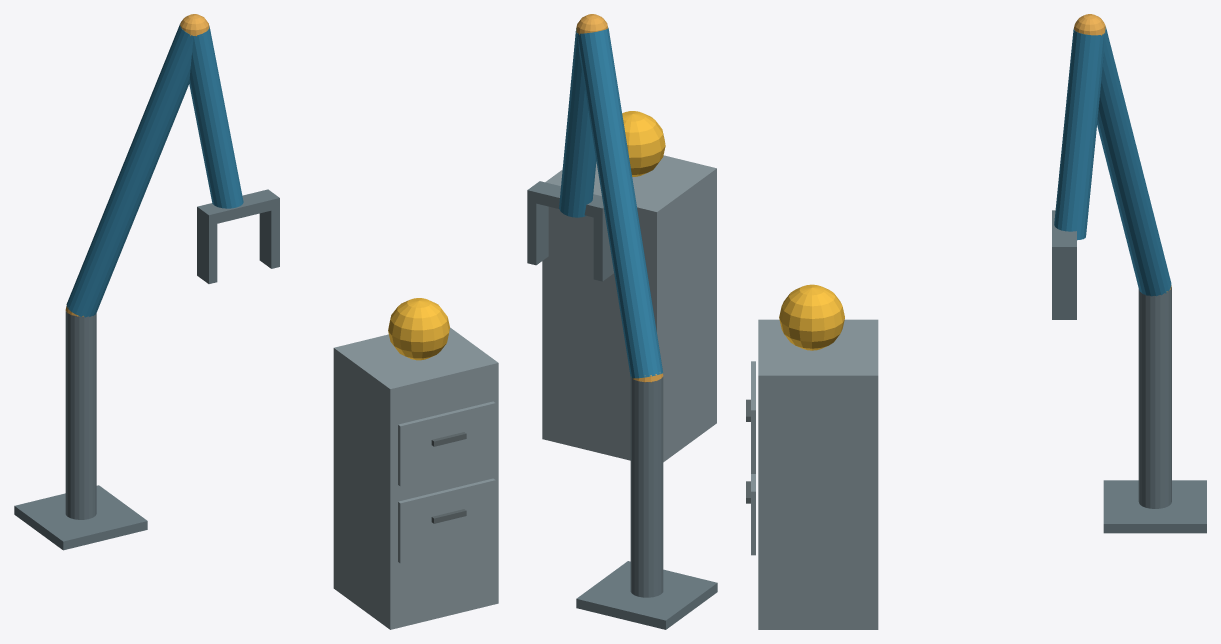
3 renders of one model, left to right at view 1: azimuth 30°, elevation 25°; view 2: azimuth 150°, elevation 25°; view 3: azimuth 270°, elevation 25°, orthographic. The views are drawn at different scales.
Parts seen in each view (by area): view 1: cabinet_1 body, moving link 1, fixed post, cabinet_1 drawer front.001, cabinet_1 drawer front, moving link 2, pedestal, ball ball_1, gripper bridge, gripper finger -1, gripper finger 1; view 2: cabinet_1 body, moving link 1, fixed post, pedestal, moving link 2, ball ball_1, gripper finger 1, gripper bridge, gripper finger -1, joint 2; view 3: cabinet_1 body, moving link 1, fixed post, moving link 2, pedestal, ball ball_1, gripper finger 1, gripper bridge.
Part boxes in pixels (x1=…): cabinet_1 body: x1=333, y1=327, x2=498, y2=629; moving link 1: x1=66, y1=24, x2=193, y2=317; fixed post: x1=65, y1=311, x2=96, y2=519; cabinet_1 drawer front.001: x1=398, y1=401, x2=495, y2=486; cabinet_1 drawer front: x1=398, y1=478, x2=495, y2=563; moving link 2: x1=189, y1=26, x2=243, y2=208; pedestal: x1=14, y1=485, x2=147, y2=550; ball ball_1: x1=388, y1=298, x2=449, y2=360; gripper bridge: x1=197, y1=189, x2=279, y2=225; gripper finger -1: x1=197, y1=217, x2=217, y2=283; gripper finger 1: x1=259, y1=208, x2=279, y2=268; cabinet_1 body: x1=542, y1=155, x2=716, y2=462; moving link 1: x1=577, y1=27, x2=662, y2=378; fixed post: x1=630, y1=374, x2=663, y2=597; pedestal: x1=576, y1=561, x2=717, y2=629; moving link 2: x1=559, y1=28, x2=596, y2=217; ball ball_1: x1=622, y1=111, x2=665, y2=176; gripper finger 1: x1=527, y1=201, x2=548, y2=265; gripper bridge: x1=527, y1=181, x2=605, y2=219; gripper finger -1: x1=593, y1=217, x2=613, y2=281; joint 2: x1=576, y1=14, x2=607, y2=34; cabinet_1 body: x1=758, y1=319, x2=878, y2=629; moving link 1: x1=1097, y1=27, x2=1171, y2=296; fixed post: x1=1138, y1=287, x2=1171, y2=508; moving link 2: x1=1054, y1=29, x2=1103, y2=240; pedestal: x1=1103, y1=480, x2=1206, y2=533; ball ball_1: x1=779, y1=284, x2=844, y2=350; gripper finger 1: x1=1052, y1=258, x2=1076, y2=319; gripper bridge: x1=1052, y1=210, x2=1076, y2=257.
Size of the model in its own units: 0.8043 by 1.44 by 1.12.
